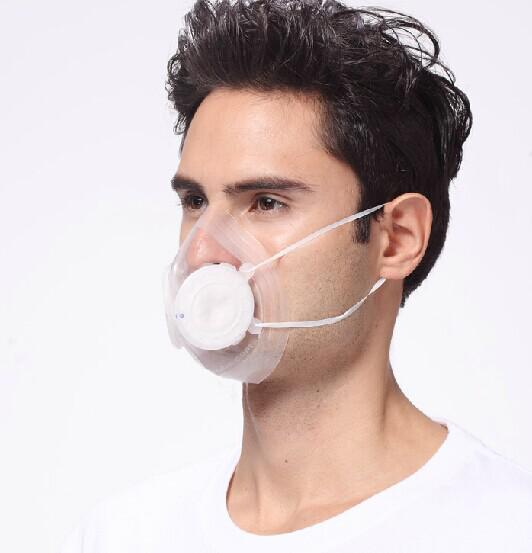OK: (165, 142, 376, 379)
